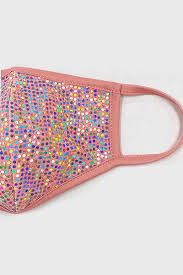cloth_mask: (1, 62, 183, 215)
